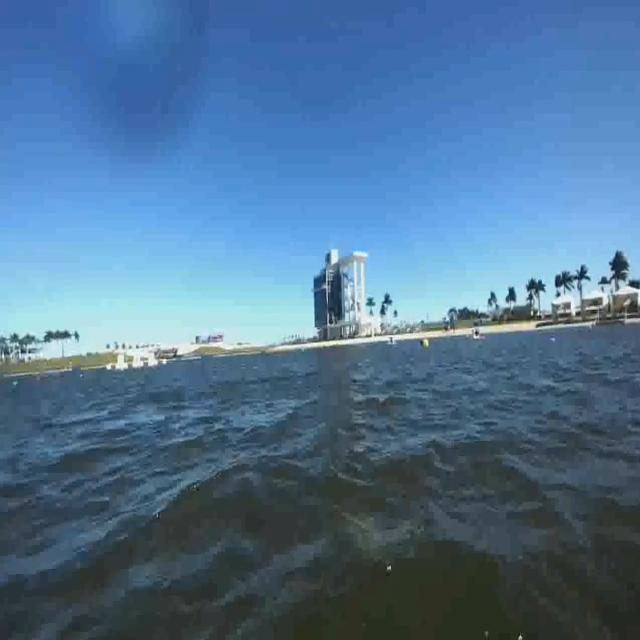yellow-buoy: (422, 338, 430, 351)
